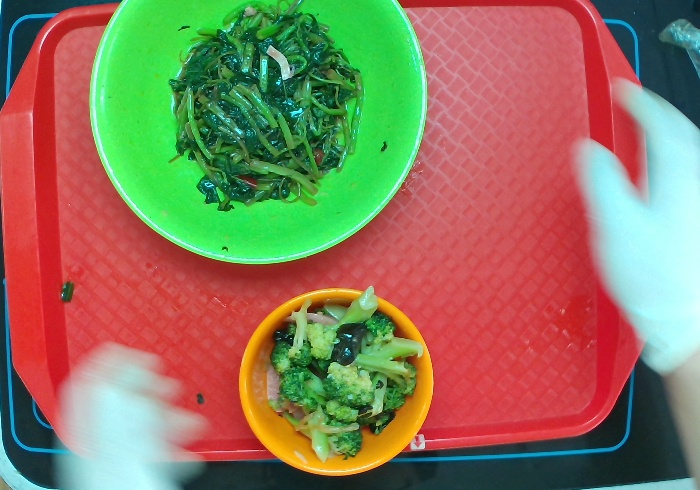YKMZ-Ju_Se_Yuan_Wan: (235, 285, 438, 479)
YKMZ-Lv_Se_Tang_Wan: (85, 1, 430, 266)
